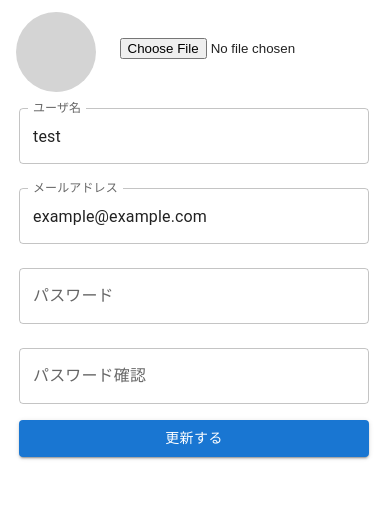
Test: UserEditForm › 空の必須フィールドエラーメッセージを表示する
Clear the field labelled "ユーザ名": (194, 136) [19,108,369,164]
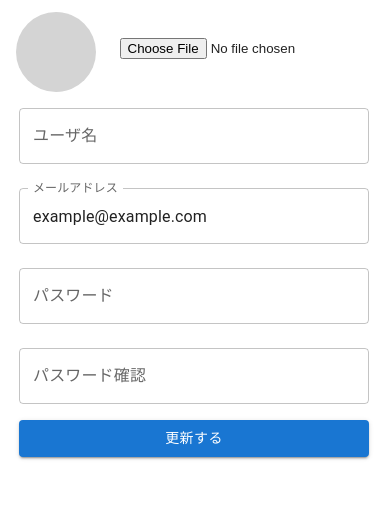
Clear the field labelled "メールアドレス": (194, 216) [19,188,369,244]
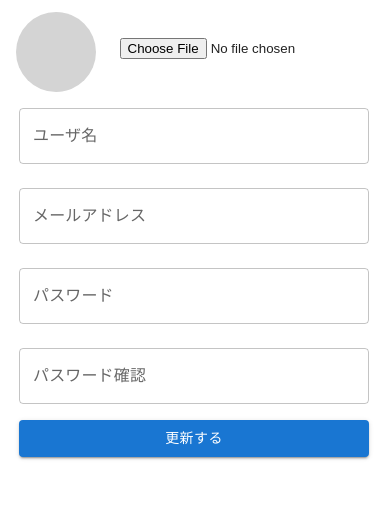
Click the button "更新する": (194, 438) [19,420,369,456]
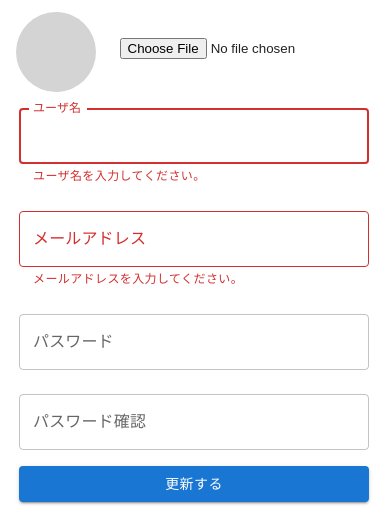
Result: the text "ユーザ名を入力してください。" is shown at [33,169,206,183]
Result: the text "メールアドレスを入力してください。" is shown at [33,272,243,286]
